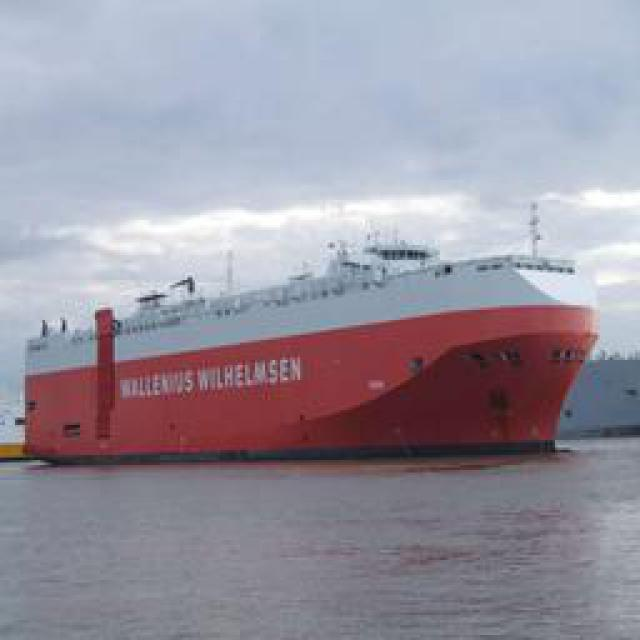Ship: (14, 240, 607, 465)
